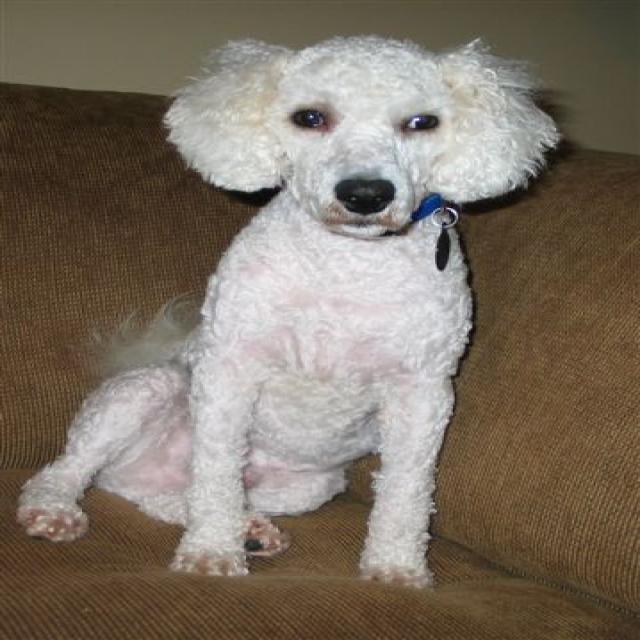Dogs: (14, 32, 564, 589)
